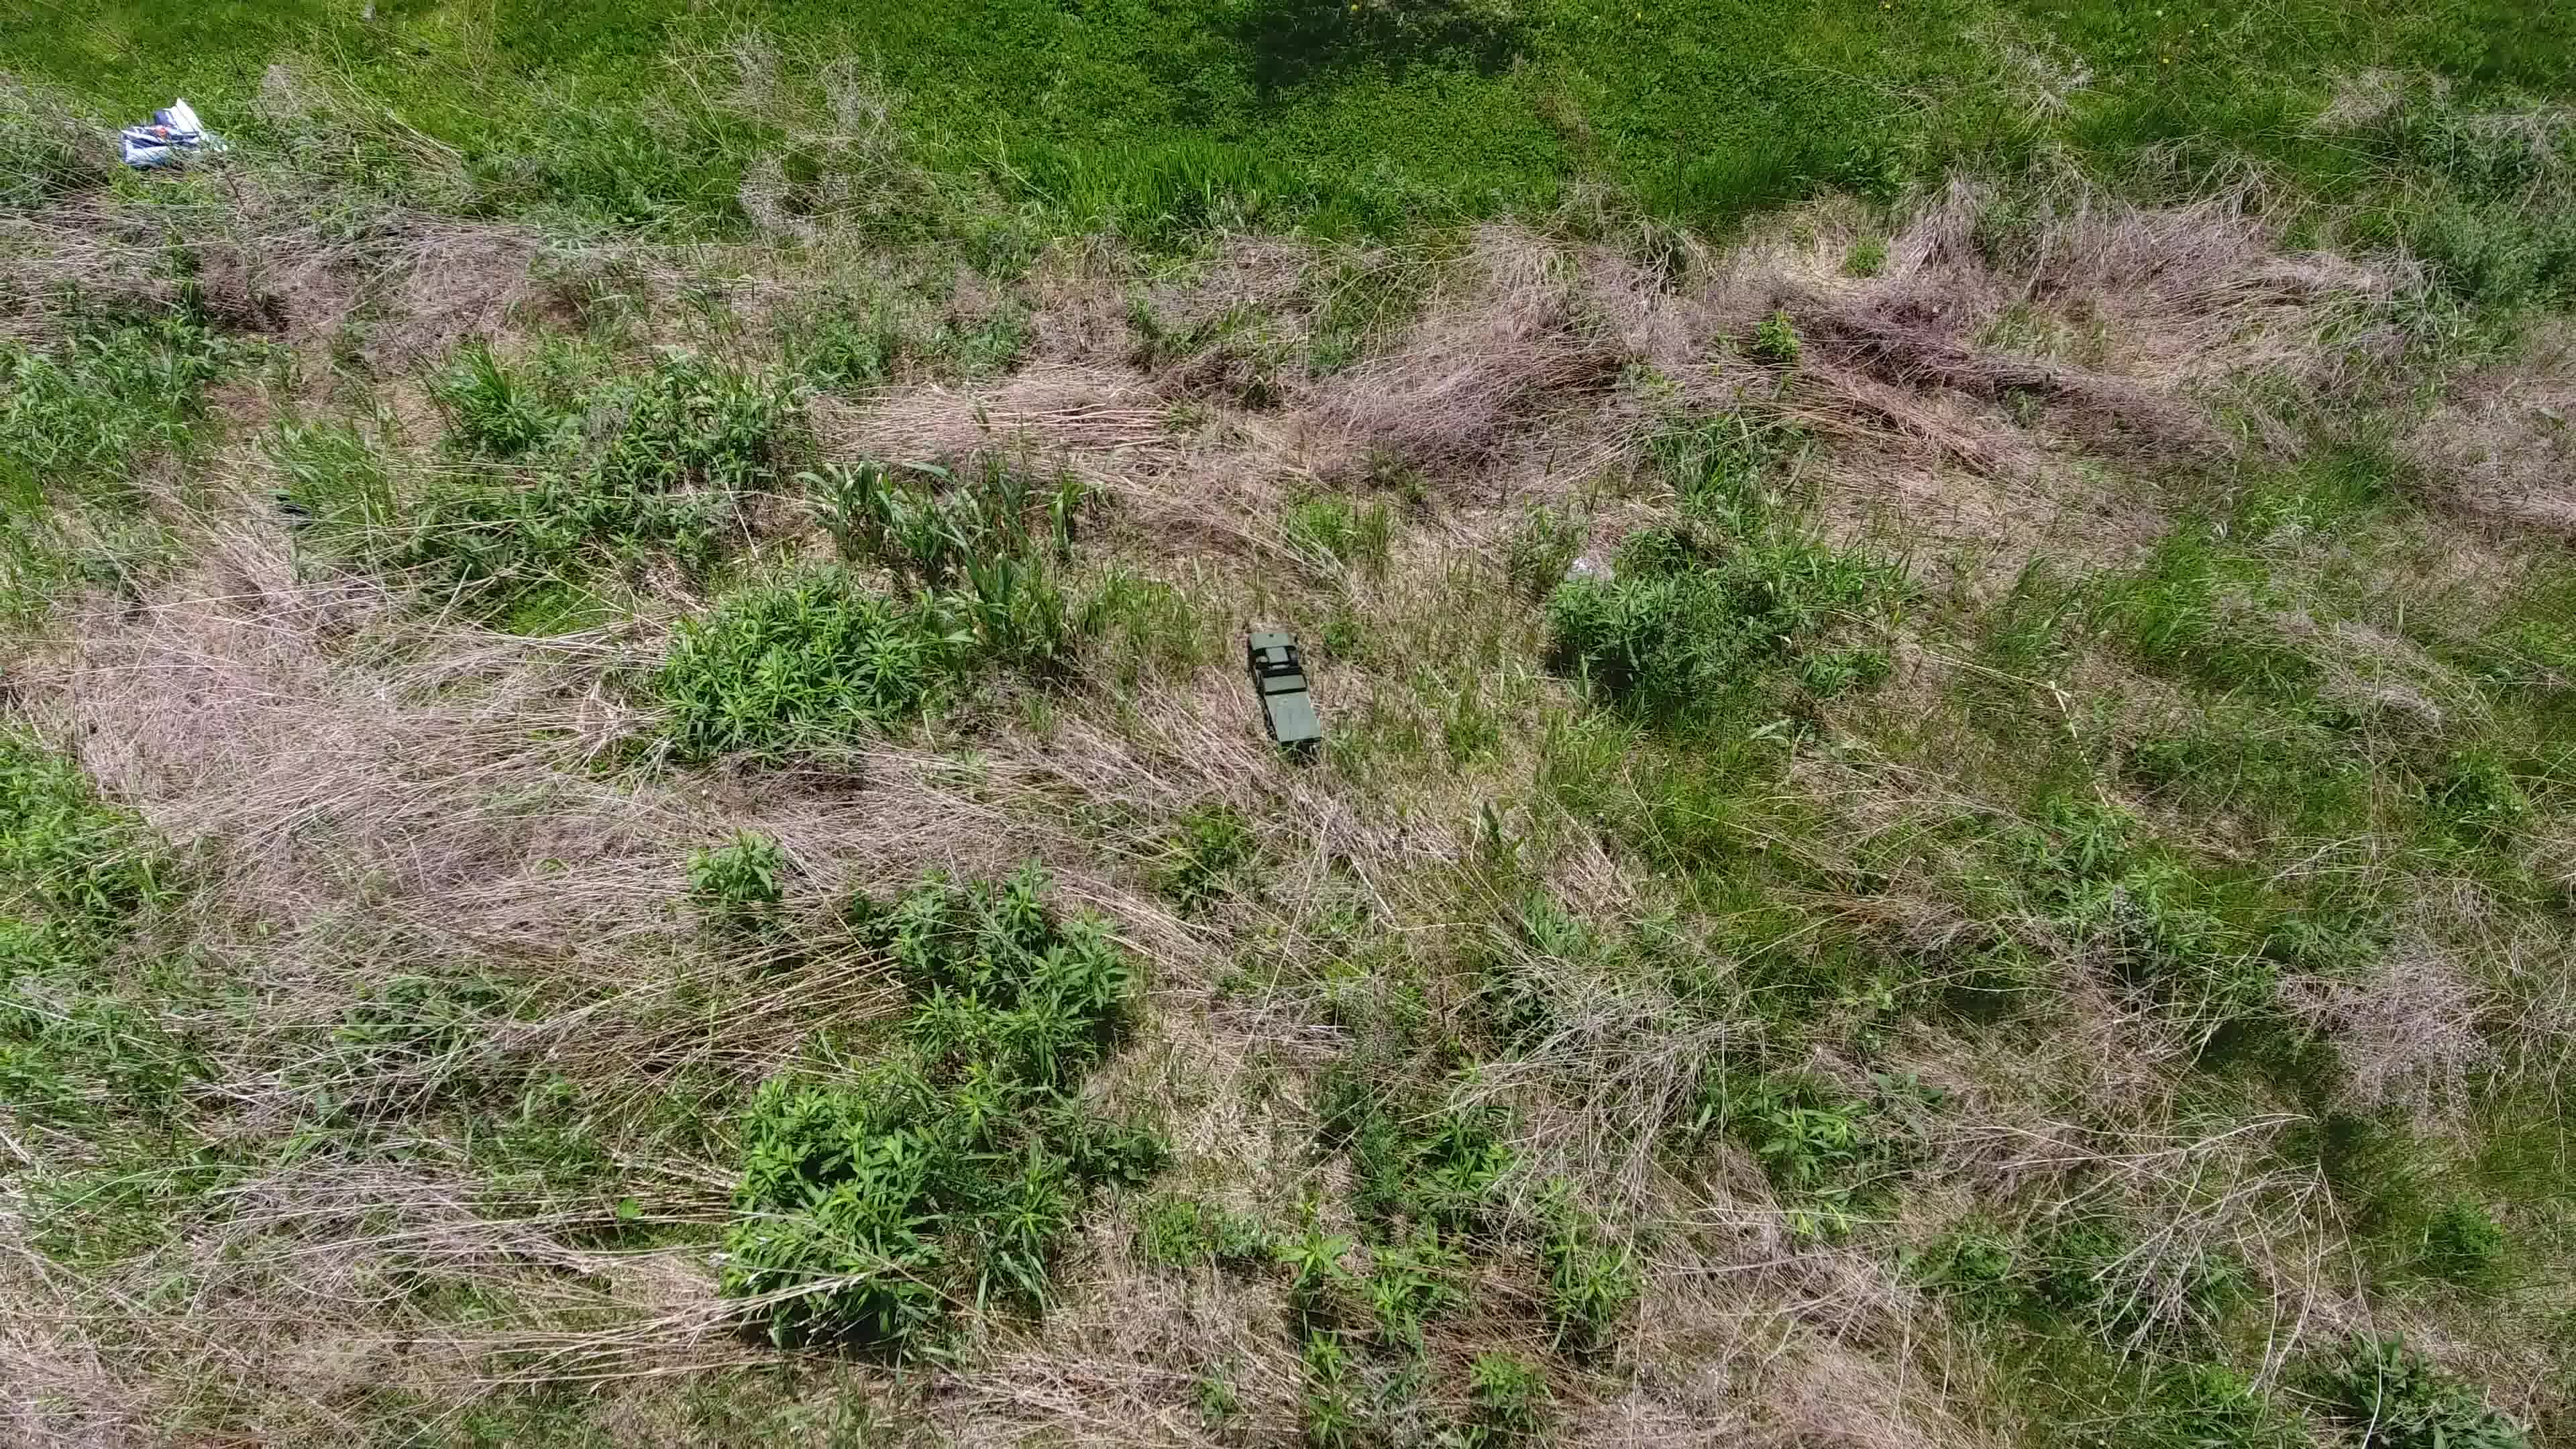transporter9: (1246, 628, 1329, 748)
